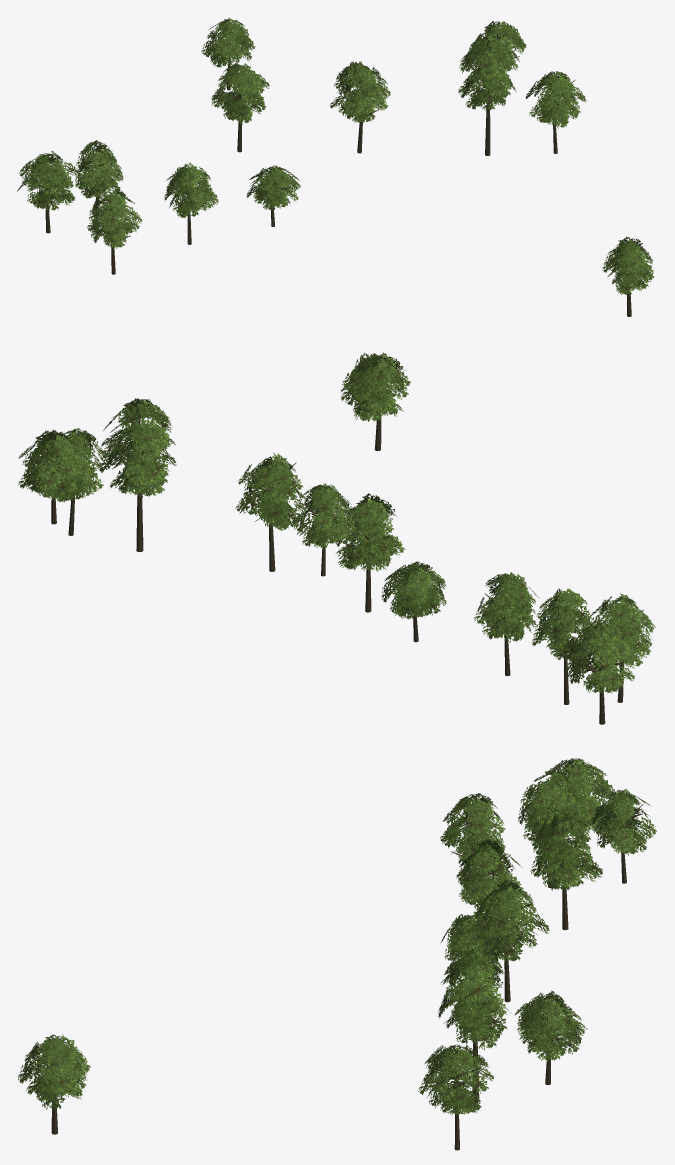
Rendered from TRB8-FOREST-CHUNK-0-1.glb.
The picture shows the model from 3 angles, top to bottom: view 1: azimuth 30°, elevation 25°; view 2: azimuth 150°, elevation 25°; view 3: azimuth 270°, elevation 25°; orthographic projection. The views are drawn at different scales.
Visible parts, largest first — view 1: TRB8-FOREST-CHUNK-0-1; view 2: TRB8-FOREST-CHUNK-0-1; view 3: TRB8-FOREST-CHUNK-0-1.
Part boxes in pixels (x1=…): TRB8-FOREST-CHUNK-0-1: x1=17, y1=17, x2=654, y2=316; TRB8-FOREST-CHUNK-0-1: x1=18, y1=352, x2=655, y2=724; TRB8-FOREST-CHUNK-0-1: x1=18, y1=758, x2=656, y2=1150.
Bounding box in the file's own units: 28.5 × 9.44 × 23.95.
Materials: 2 (1 with a texture image).
